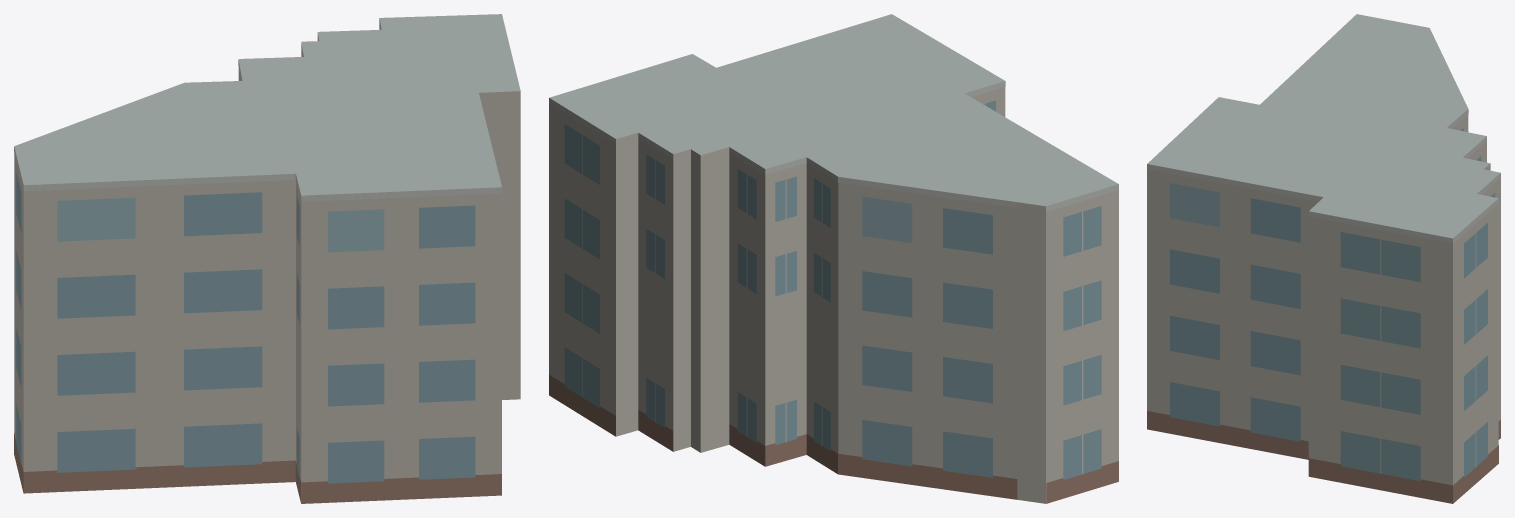
File: survey-upis-32681175.glb
3 renders of one model, left to right at view 1: azimuth 30°, elevation 25°; view 2: azimuth 150°, elevation 25°; view 3: azimuth 270°, elevation 25°, orthographic. The views are drawn at different scales.
Parts seen in each view (by area): view 1: survey-upis-32681175.tmp; view 2: survey-upis-32681175.tmp; view 3: survey-upis-32681175.tmp.
Part boxes in pixels (bbox=[...]): survey-upis-32681175.tmp: bbox=[14, 14, 520, 503]; survey-upis-32681175.tmp: bbox=[549, 14, 1118, 503]; survey-upis-32681175.tmp: bbox=[1147, 14, 1500, 503].
Bounding box in the file's own units: 22.5 × 12.4 × 14.99.
